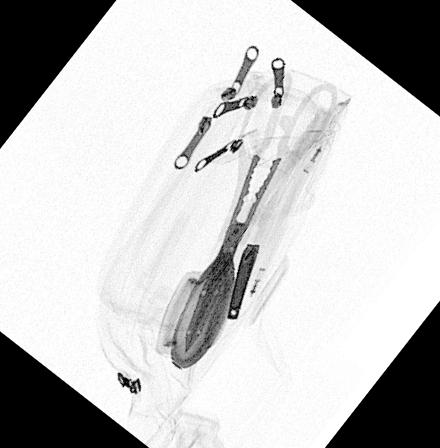Scissors: (184, 71, 340, 355)
